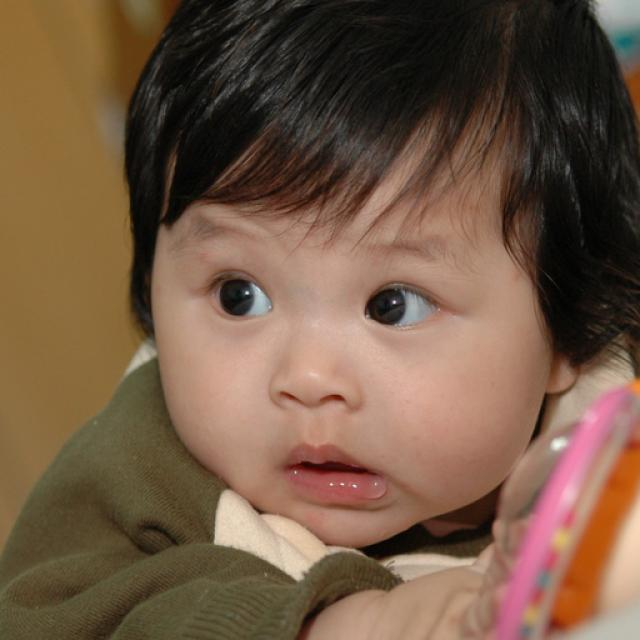surprise: (154, 101, 548, 549)
